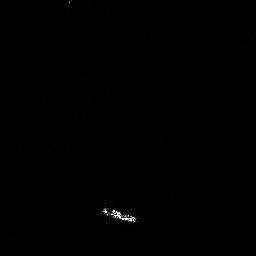ship: (99, 204, 140, 225)
